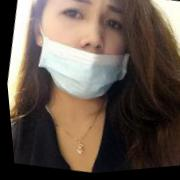WRONG: (26, 1, 144, 111)
